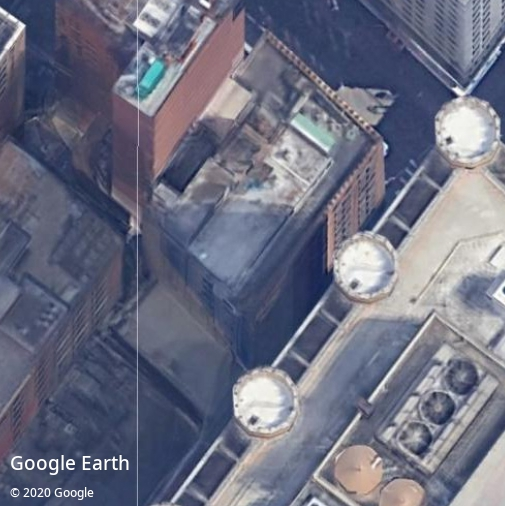Vent: (421, 390, 456, 425), (445, 361, 479, 396), (399, 421, 433, 455)
